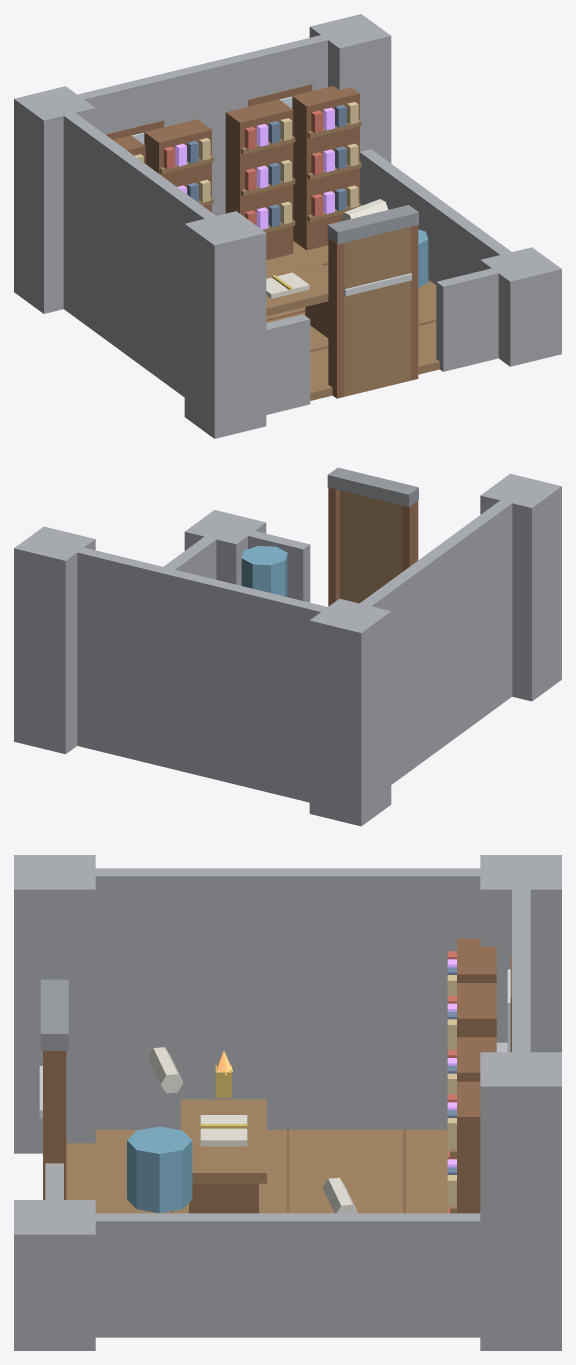
File: library_interior.glb
The picture shows the model from 3 angles, top to bottom: view 1: azimuth 30°, elevation 25°; view 2: azimuth 150°, elevation 25°; view 3: azimuth 270°, elevation 25°; orthographic projection. The views are drawn at different scales.
Visible parts, largest first — view 1: floor_slab; view 2: floor_slab; view 3: floor_slab.
Boxes of the visible parts, x1,y1,x2,y2 form: floor_slab: (14,14,561,438); floor_slab: (14,467,561,826); floor_slab: (14,855,561,1350).
Size of the model in its own units: 4.7 by 2.5 by 4.7.
